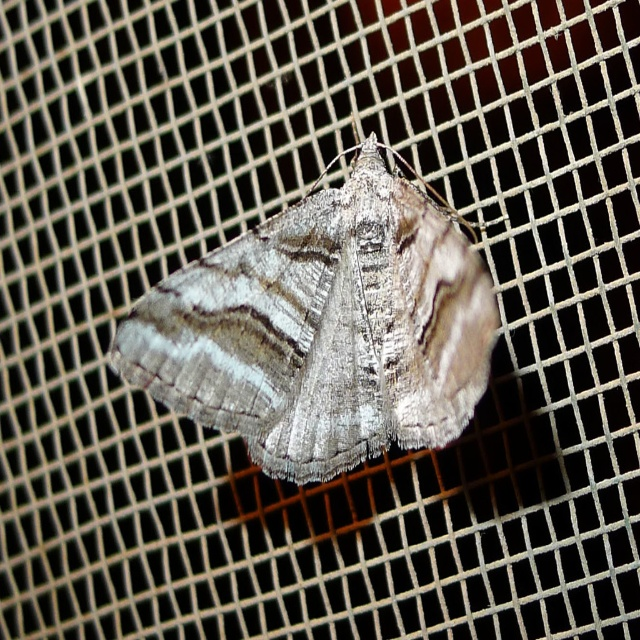Moths and butterflies: (106, 108, 503, 483)
